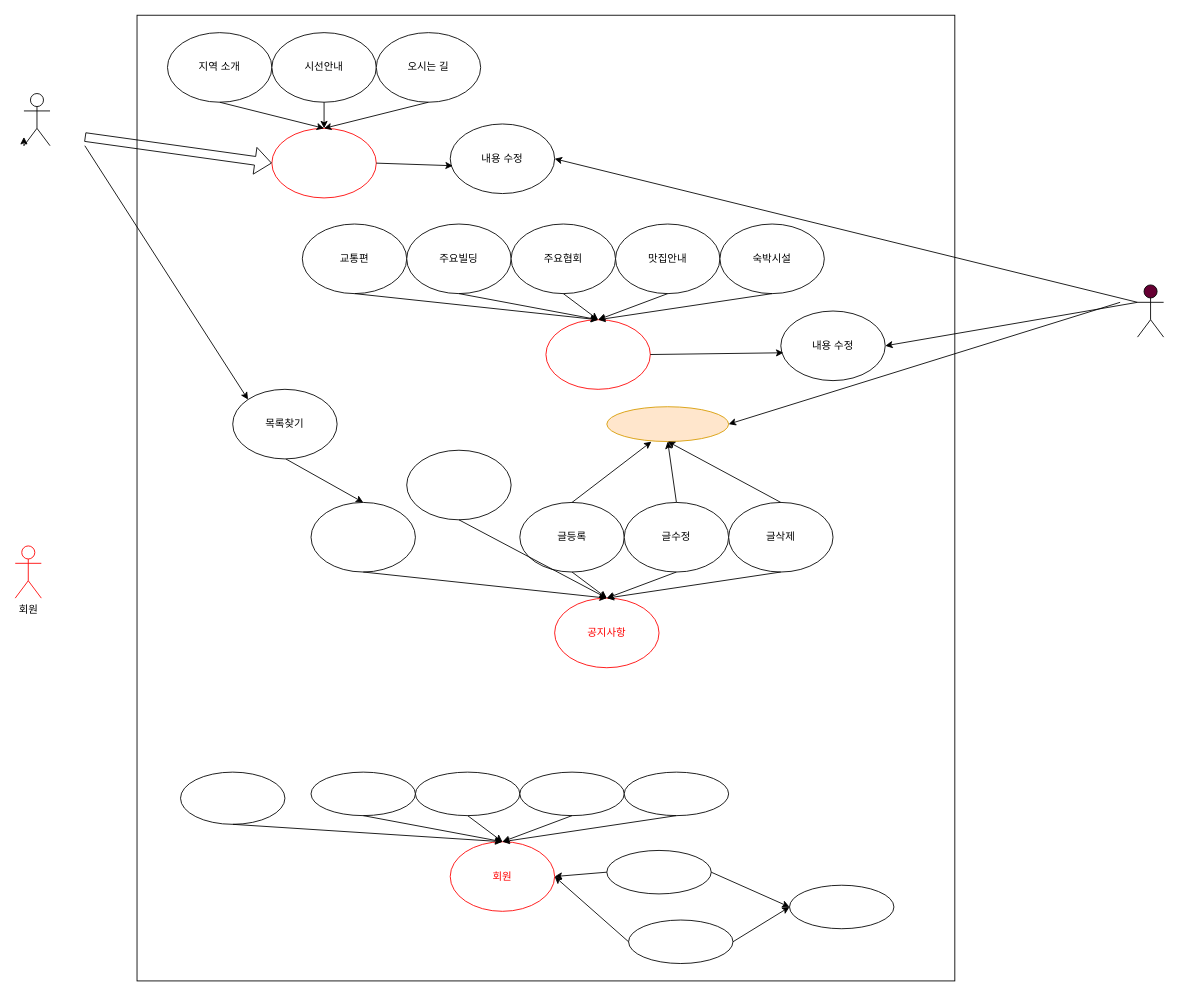
Some shapes in this 1180 by 996 pixel diagram are drawn without their labels. Here are the shapes that lost their labels. From the top down, the centre of each, then its label:
the point at 36,119: 비회원
the point at 323,162: 지역소개
the point at 1150,310: 운영자
the point at 597,354: 이용안내
the point at 667,424: 글관리
the point at 458,484: 상세보기
the point at 362,537: 목록보기
